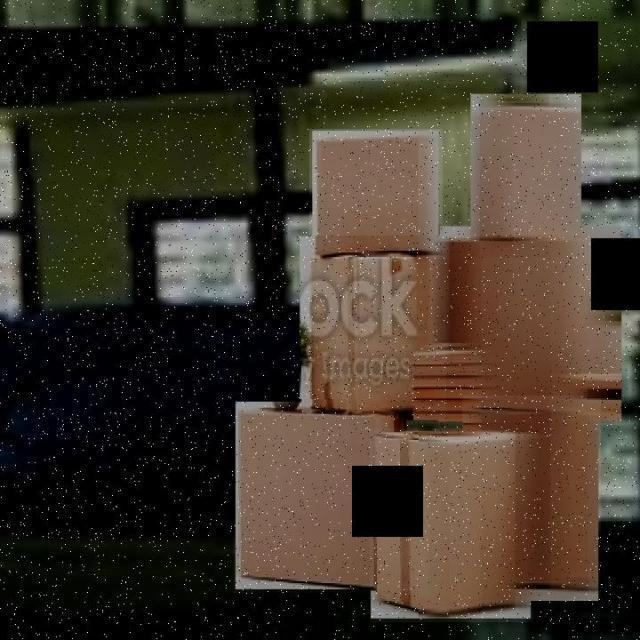box: (438, 224, 625, 425), (233, 399, 410, 593), (370, 428, 534, 622), (462, 396, 601, 604), (300, 236, 448, 423), (471, 91, 586, 258), (309, 129, 443, 257)
